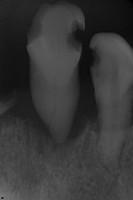Dental Caries: (0, 82, 97, 148)
